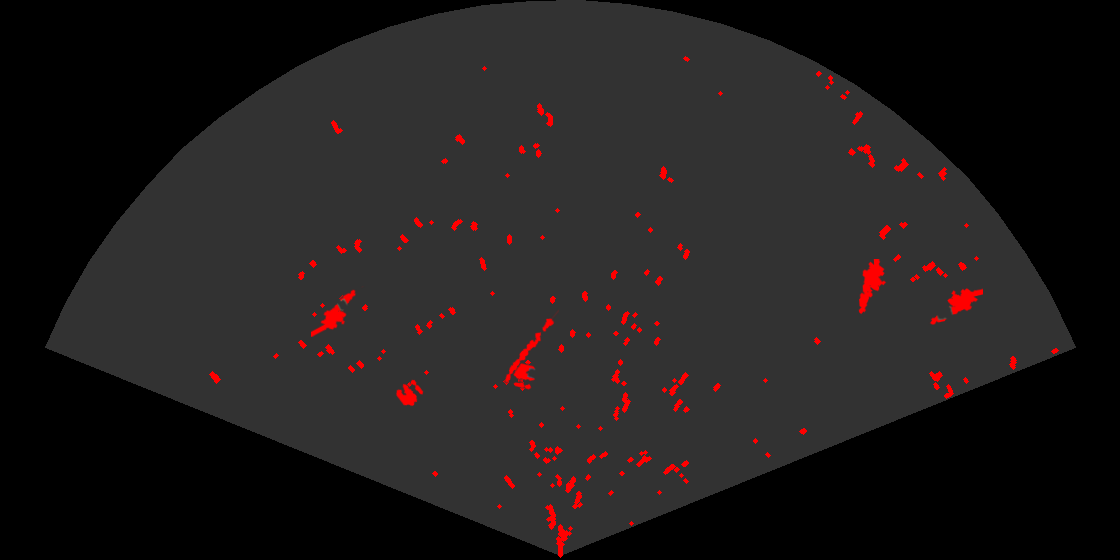ball: (395, 378, 425, 408), (512, 362, 537, 391)
chain: (503, 308, 559, 384)
frogman: (311, 286, 365, 337), (928, 286, 983, 326), (857, 259, 888, 315)
